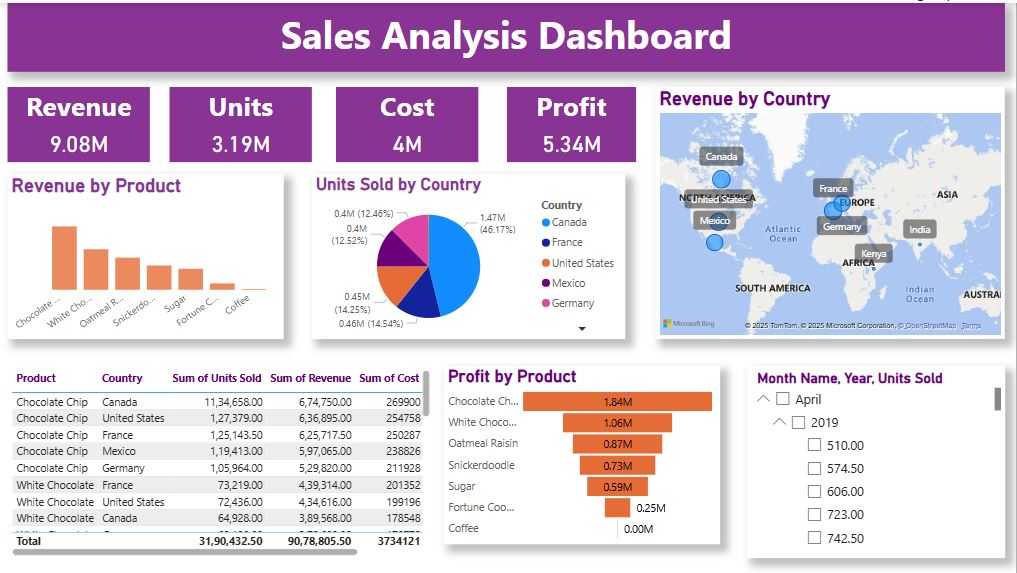

This screenshot's page, from the dashboard's own definition file:
{"tool":"powerbi","page":{"name":"Dashboard","canvas":[1280,720],"ordinal":0},"visuals":[{"type":"textbox","box":[9.4,0,1256.7,86.9],"z":0},{"type":"card","title":"Revenue","fields":{"Values":["Sum(Sheet1.Revenue)"]},"box":[9.4,105.8,179.5,94.5],"z":1000},{"type":"card","title":"Units ","fields":{"Values":["Sum(Sheet1.Units Sold)"]},"box":[213.5,105.8,179.5,94.5],"z":2000},{"type":"card","title":"Cost","fields":{"Values":["Sum(Sheet1.Cost)"]},"box":[423.3,105.8,179.5,94.5],"z":3000},{"type":"card","title":"Profit","fields":{"Values":["Sum(Sheet1.Profit)"]},"box":[638.7,105.8,162.5,94.5],"z":4000},{"type":"columnChart","title":"Revenue by Product","fields":{"Y":["Sum(Sheet1.Revenue)"],"Category":["Sheet1.Product"]},"box":[9.4,215.4,347.7,207.9],"z":5000},{"type":"pieChart","title":"Units Sold by Country","fields":{"Y":["Sum(Sheet1.Units Sold)"],"Category":["Sheet1.Country"]},"box":[393.1,215.4,395,207.9],"z":6000},{"type":"map","title":"Revenue by Country","fields":{"Size":["Sum(Sheet1.Revenue)"],"Category":["Sheet1.Country"]},"box":[825.8,105.8,440.3,317.5],"z":7000},{"type":"funnel","title":"Profit by Product","fields":{"Category":["Sheet1.Product"],"Y":["Sum(Sheet1.Profit)"]},"box":[559.4,457.3,347.7,224.9],"z":7001},{"type":"tableEx","fields":{"Values":["Sheet1.Product","Sheet1.Country","Sum(Sheet1.Units Sold)","Sum(Sheet1.Revenue)","Sum(Sheet1.Cost)","Sum(Sheet1.Profit)"]},"box":[9.4,457.3,536.7,243.8],"z":7002},{"type":"slicer","fields":{"Values":["Sheet1.Month Name","Sheet1.Year","Sheet1.Units Sold"]},"box":[941.1,457.3,325,241.9],"z":7004}]}

Visuals, with their boxes in screenshot pixels (x1, y1, x2, y2), scaled from the page's 1280x720 canvas onto the 1017x573 screenshot:
textbox: <region>7, 0, 1006, 69</region>
"Revenue" card: <region>7, 84, 150, 159</region>
"Units " card: <region>170, 84, 312, 159</region>
"Cost" card: <region>336, 84, 479, 159</region>
"Profit" card: <region>507, 84, 637, 159</region>
"Revenue by Product" columnChart: <region>7, 171, 284, 337</region>
"Units Sold by Country" pieChart: <region>312, 171, 626, 337</region>
"Revenue by Country" map: <region>656, 84, 1006, 337</region>
"Profit by Product" funnel: <region>444, 364, 721, 543</region>
tableEx - Sheet1.Product x Sheet1.Country: <region>7, 364, 434, 558</region>
slicer - Sheet1.Month Name x Sheet1.Year: <region>748, 364, 1006, 556</region>
